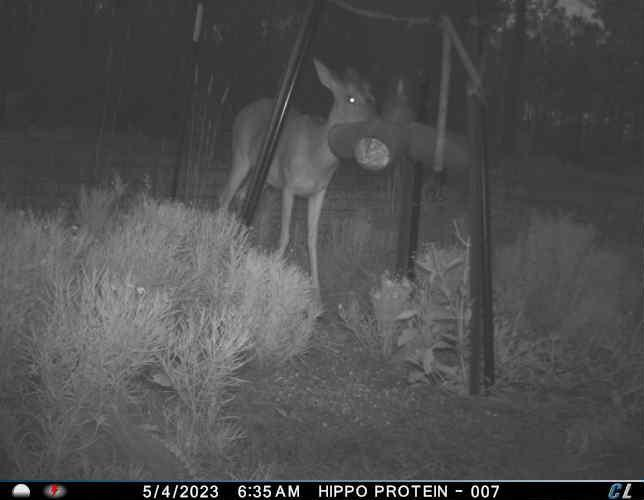Deer: (216, 54, 379, 319)
